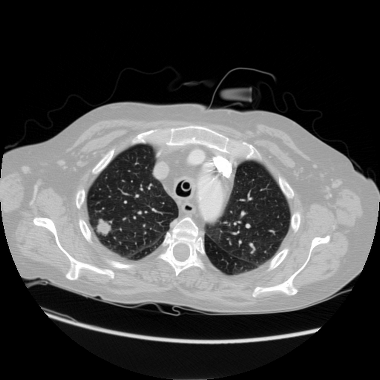nodule: (95, 220, 111, 236)
